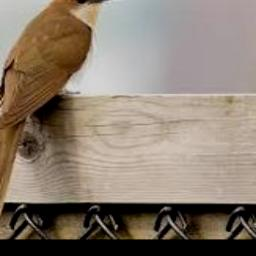Cuckoo: (0, 0, 124, 234)
